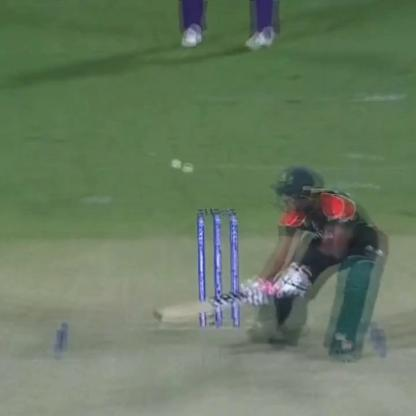ball: (160, 152, 188, 169), (183, 158, 201, 178)
bat: (154, 273, 312, 321)
pitch: (1, 293, 416, 415)
